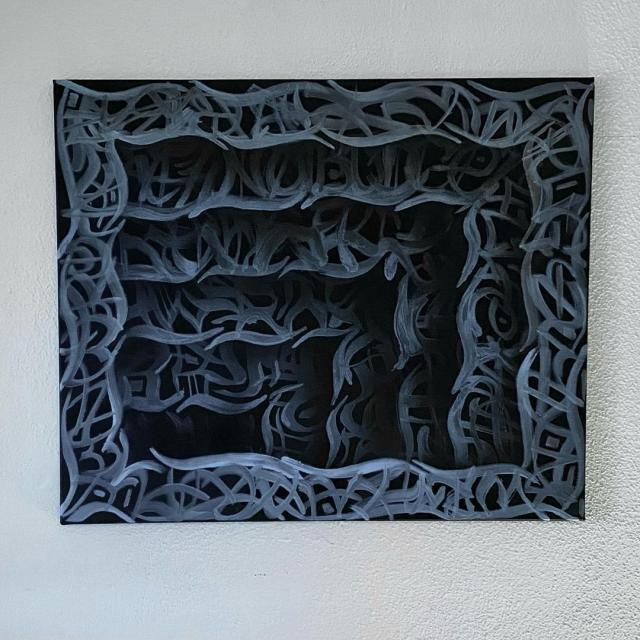-: (53, 78, 588, 520)
